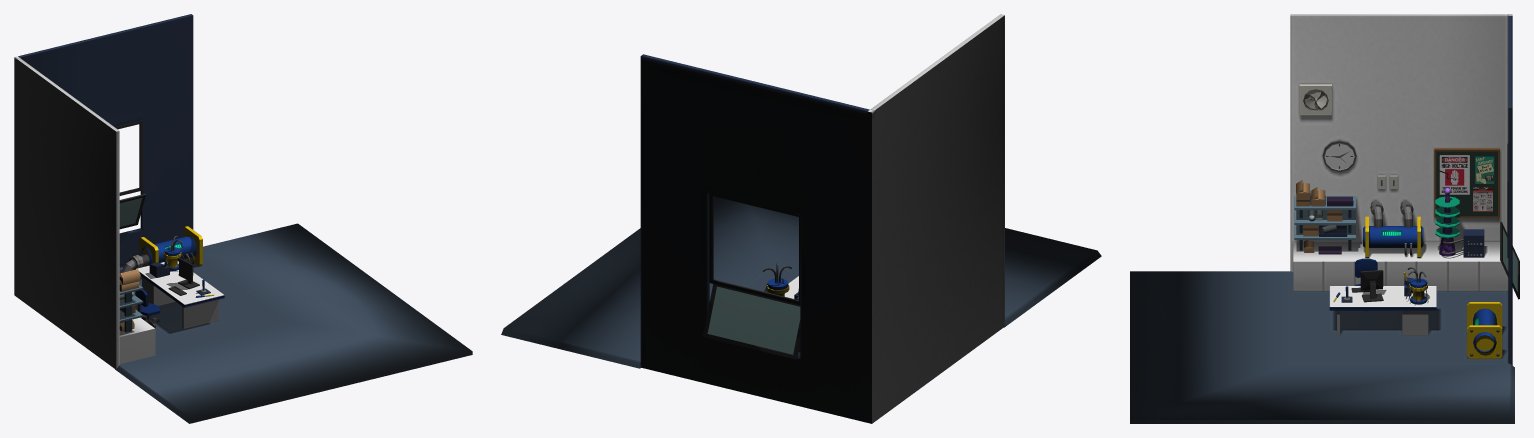
File: Tx_Interior_Work_ElectricityPlant.fbx
The picture shows the model from 3 angles, left to right: view 1: azimuth 30°, elevation 25°; view 2: azimuth 150°, elevation 25°; view 3: azimuth 270°, elevation 25°; orthographic projection. The views are drawn at different scales.
Visible parts, largest first — view 1: group3; view 2: group3; view 3: group3.
Part boxes in pixels (x1=…): group3: x1=14, y1=14, x2=472, y2=423; group3: x1=501, y1=14, x2=1101, y2=423; group3: x1=1130, y1=14, x2=1519, y2=423.
Size of the model in its own units: 36.4 by 29.29 by 39.83.
1 material, 1 textured.
